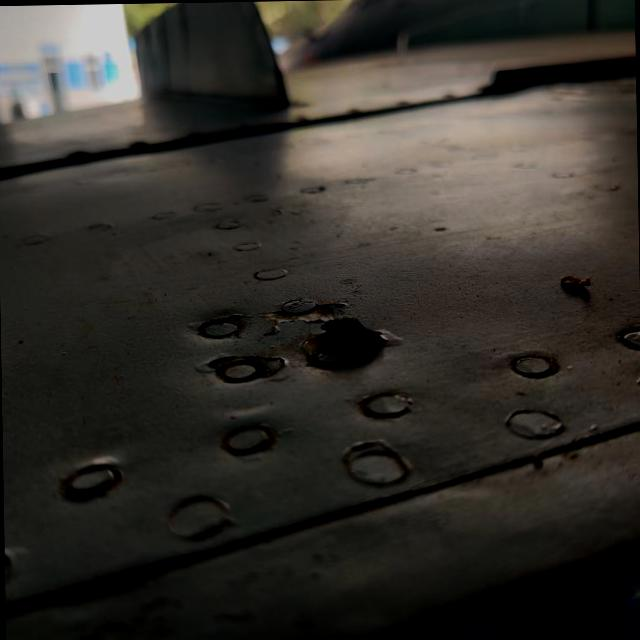paint-off: (283, 298, 402, 382)
